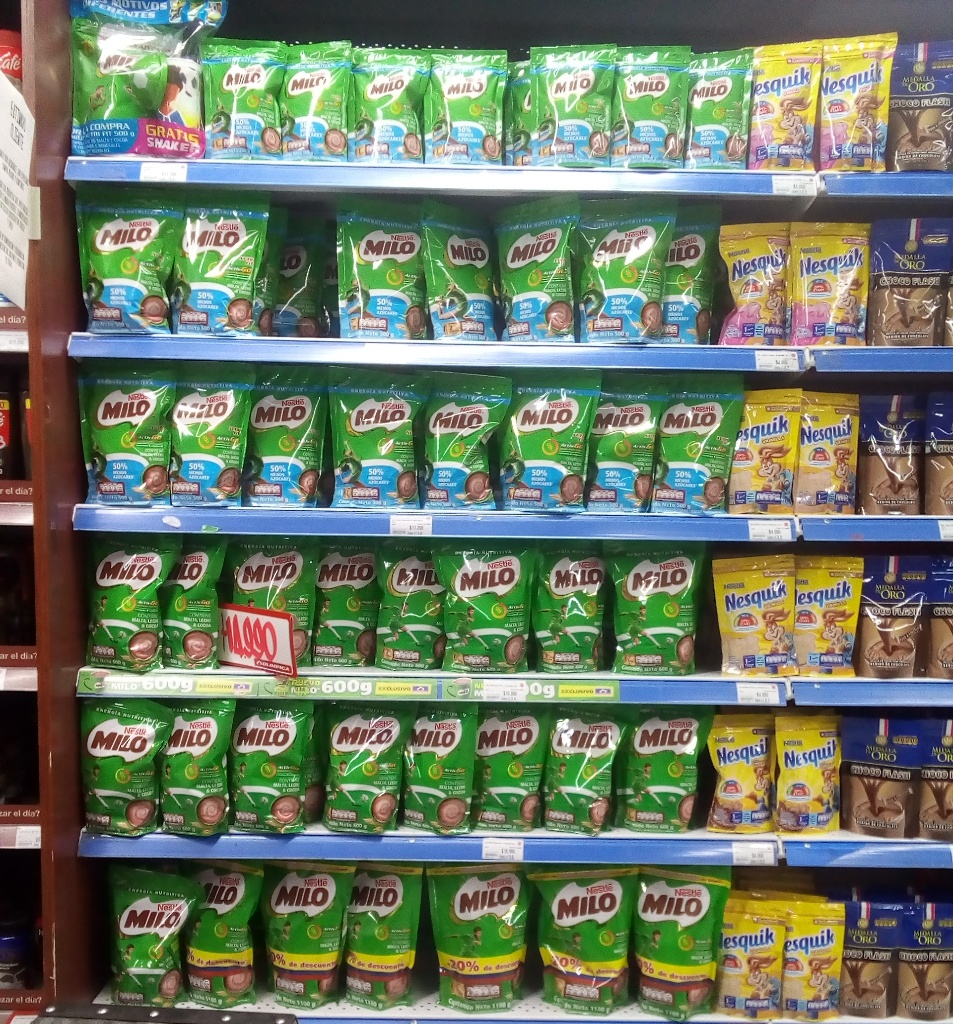COL0170203DYP50000: (79, 535, 166, 673)
COL0170205DYP20000: (203, 35, 287, 155)
COL0170205DYP50000: (66, 184, 176, 327)
COL0170303DYP20000: (707, 715, 776, 829)
COL0170305DYP20000: (727, 221, 798, 342)
COL0170306DYP20000: (735, 387, 797, 516)
